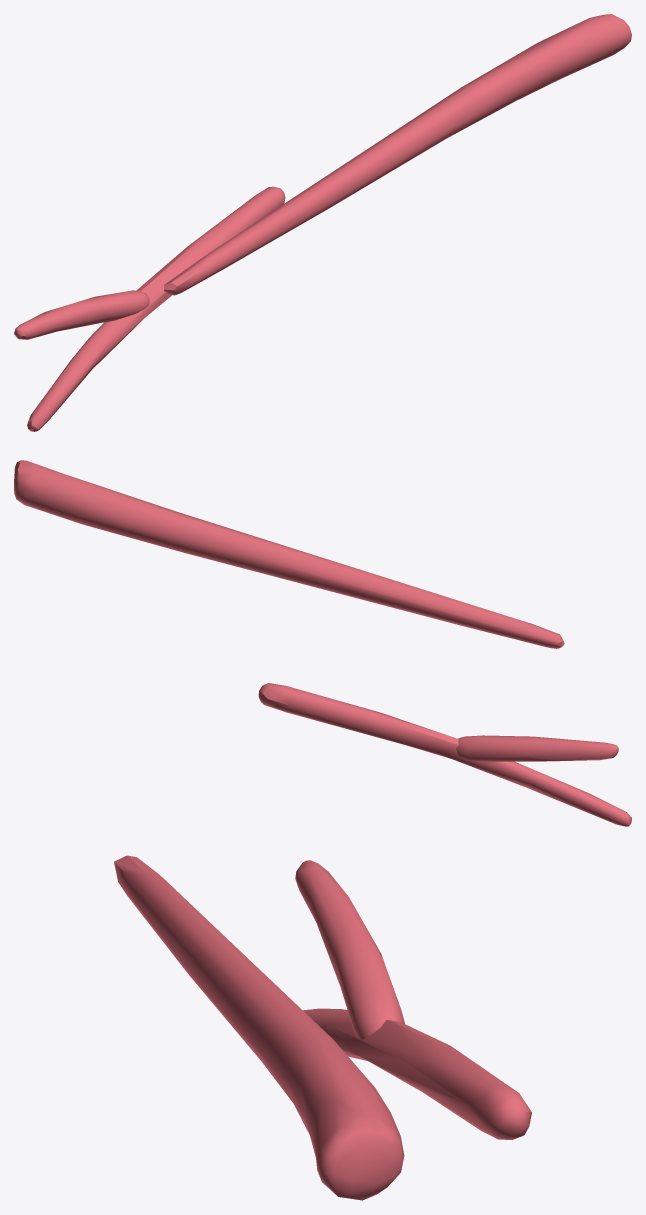
The model's file is fma8673_cx282.glb.
The picture shows the model from 3 angles, top to bottom: view 1: azimuth 30°, elevation 25°; view 2: azimuth 150°, elevation 25°; view 3: azimuth 270°, elevation 25°; orthographic projection. The views are drawn at different scales.
Parts seen in each view (by area): view 1: FMA8673_CX282; view 2: FMA8673_CX282; view 3: FMA8673_CX282.
Boxes of the visible parts, x1,y1,x2,y2 form: FMA8673_CX282: (14, 14, 631, 431); FMA8673_CX282: (14, 460, 631, 826); FMA8673_CX282: (114, 855, 531, 1200).
Bounding box in the file's own units: 0.0681 × 0.0262 × 0.0207.
